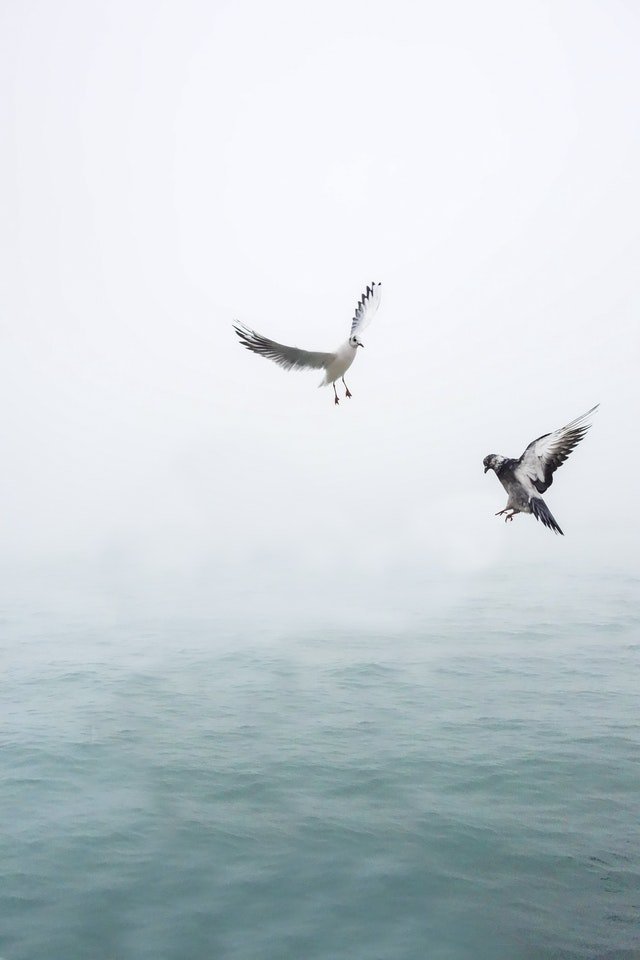bird: (230, 285, 386, 403), (481, 405, 599, 535)
